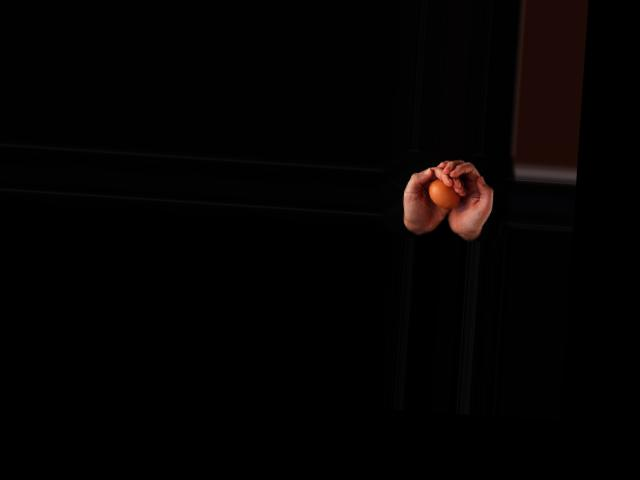egg: (427, 179, 463, 209)
